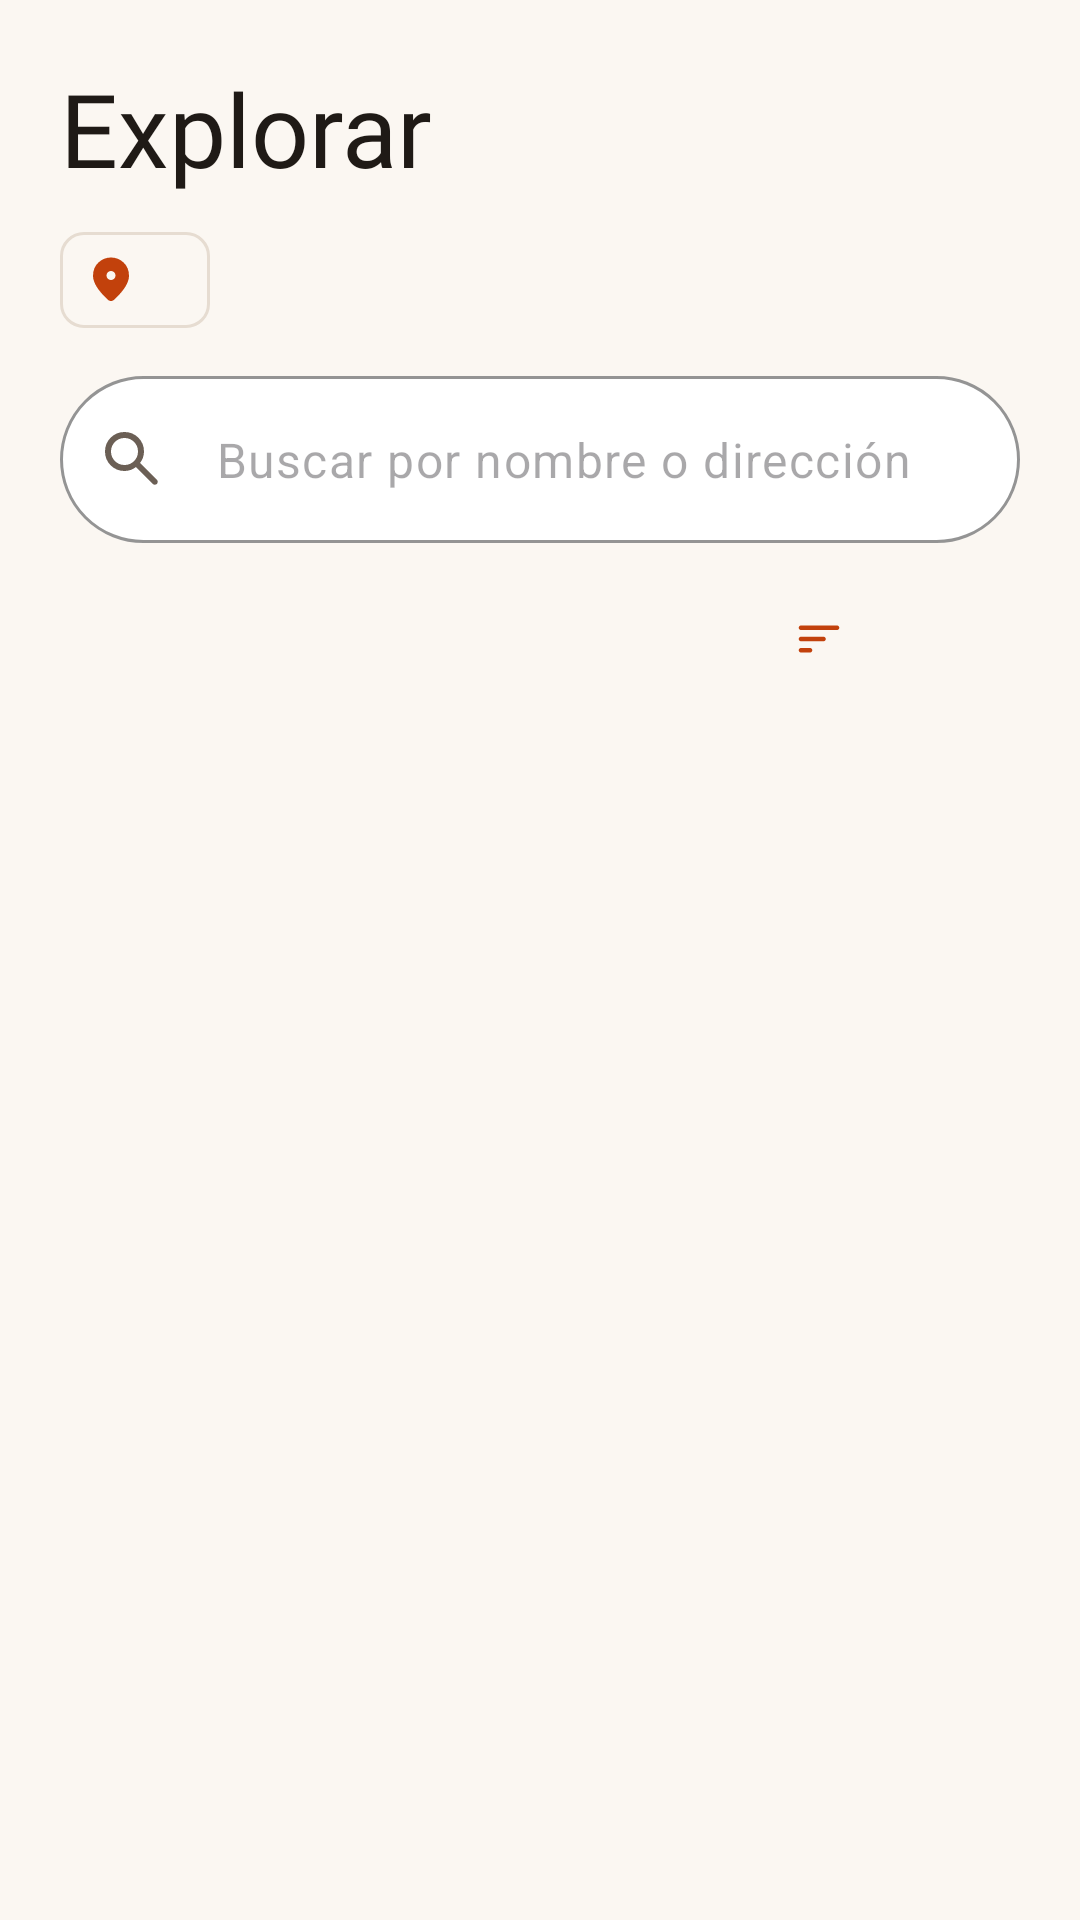

Named icons in this screenshot (1080*1920) and their bounding boxes, box=[x1, y1, x2, y2]:
ordenar: box=[798, 625, 840, 653]
